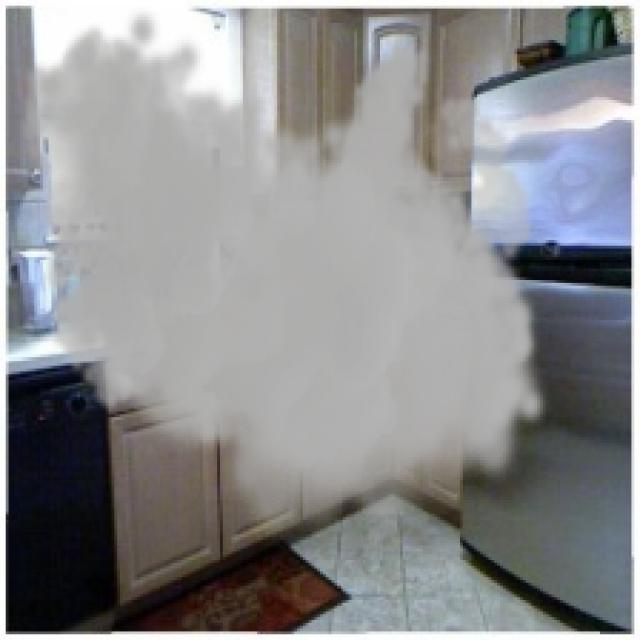Smoke: (17, 6, 552, 552)
